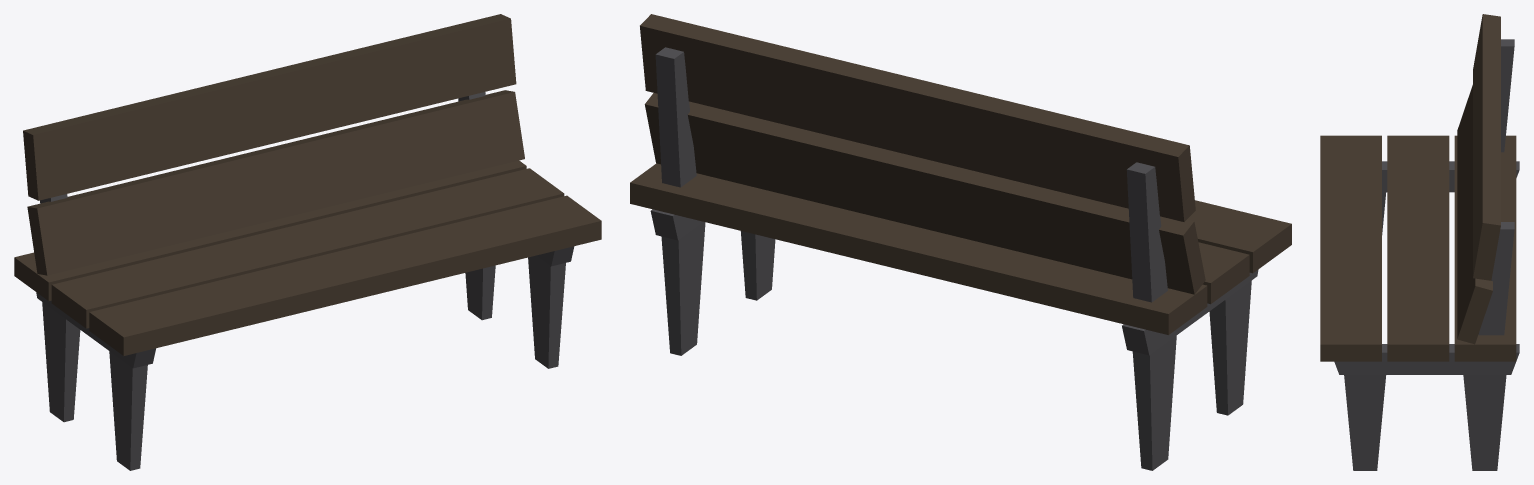
The model's file is SM_Bench.fbx.
3 renders of one model, left to right at view 1: azimuth 30°, elevation 25°; view 2: azimuth 150°, elevation 25°; view 3: azimuth 270°, elevation 25°, orthographic. The views are drawn at different scales.
Visible parts, largest first — view 1: SM_Bench; view 2: SM_Bench; view 3: SM_Bench.
Part boxes in pixels (bbox=[...]): SM_Bench: bbox=[14, 14, 601, 470]; SM_Bench: bbox=[630, 14, 1291, 470]; SM_Bench: bbox=[1320, 14, 1519, 470].
Bounding box in the file's own units: 160 × 92.47 × 64.53.
